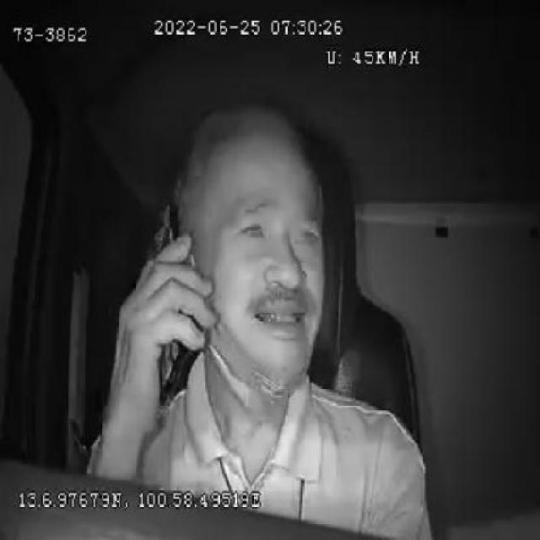phone: (143, 201, 204, 405)
